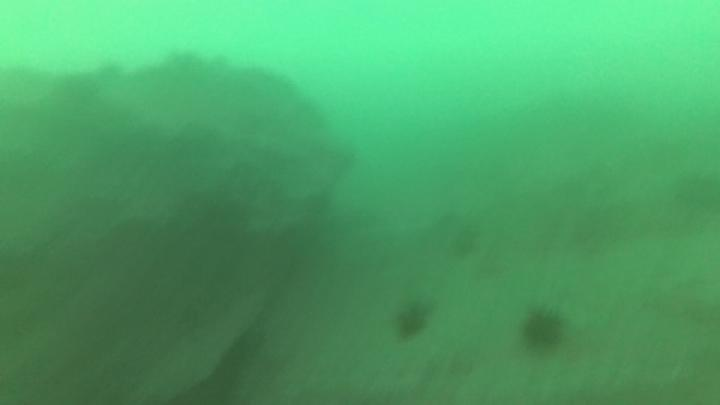echinus: (518, 307, 568, 352), (394, 306, 432, 344)
